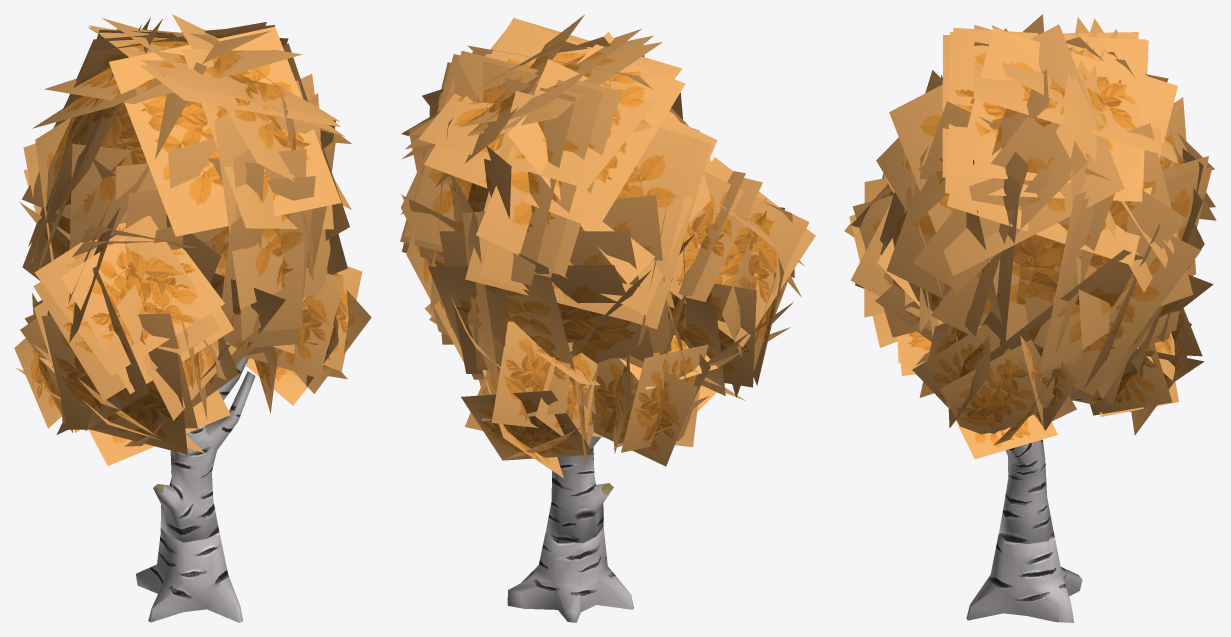
The model's file is tree_birch.fbx.
3 views of the same model, side by side, from view 1: azimuth 30°, elevation 25°; view 2: azimuth 150°, elevation 25°; view 3: azimuth 270°, elevation 25° (orthographic).
Visible parts, largest first — view 1: birchtrunk, birchstump; view 2: birchtrunk, birchstump; view 3: birchtrunk, birchstump.
Part boxes in pixels (bbox=[...]): birchtrunk: bbox=[14, 14, 371, 542]; birchstump: bbox=[136, 528, 242, 622]; birchtrunk: bbox=[400, 14, 815, 543]; birchstump: bbox=[507, 527, 633, 622]; birchtrunk: bbox=[844, 14, 1216, 544]; birchstump: bbox=[966, 534, 1082, 622].
Size of the model in its own units: 406 by 674 by 389.
